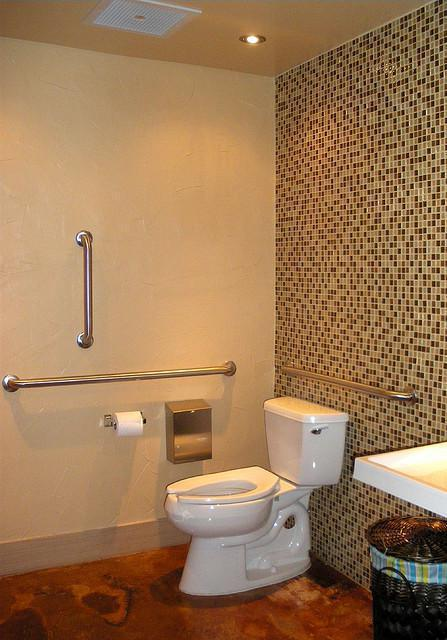Sanitario: (156, 392, 351, 606)
